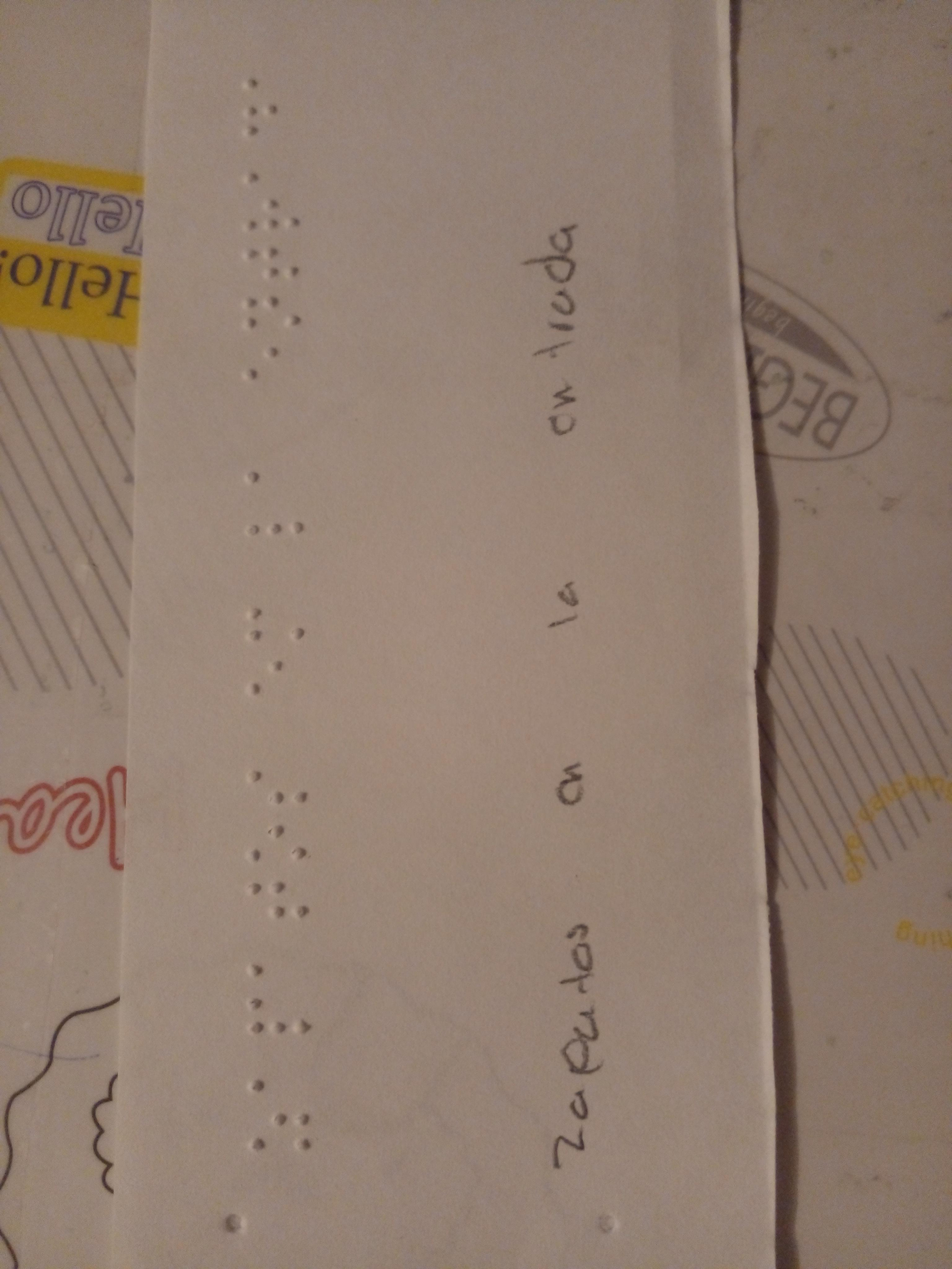a: (234, 156, 276, 195), (240, 1063, 279, 1101), (231, 67, 274, 101), (239, 950, 284, 982), (237, 465, 276, 493)
d: (232, 94, 294, 144)
e: (229, 339, 302, 386), (232, 654, 304, 697)
l: (234, 508, 325, 542)
m: (240, 595, 313, 648)
n: (234, 288, 305, 336)
o: (237, 819, 321, 869)
p: (243, 987, 318, 1043)
r: (234, 189, 322, 245)
s: (242, 757, 319, 816)
t: (234, 872, 322, 929), (231, 243, 318, 291)
z: (240, 1103, 324, 1157)
